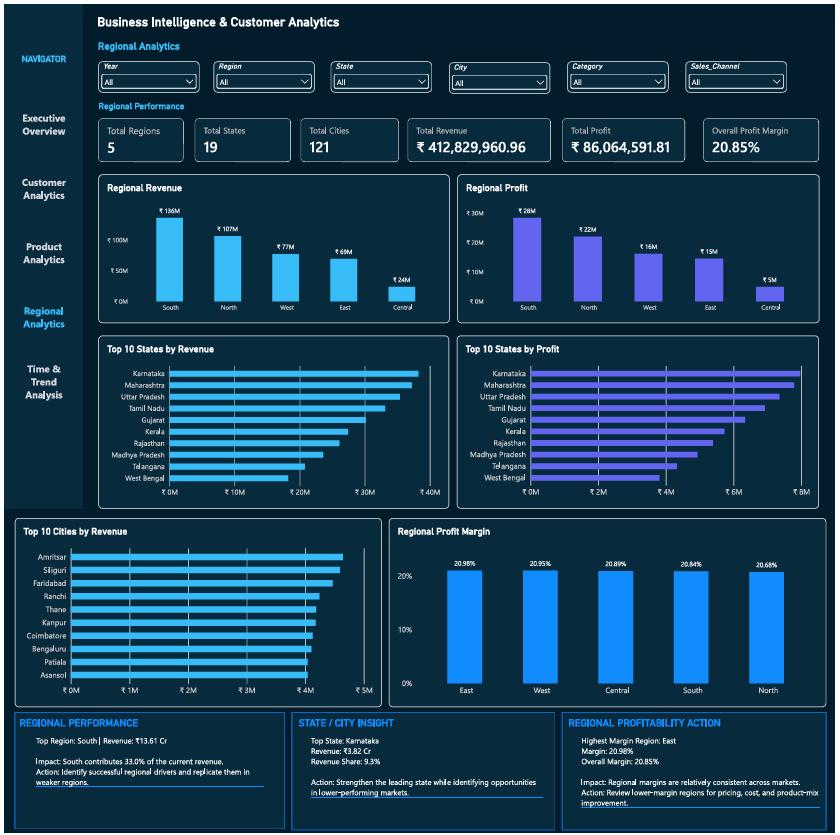

This screenshot's page, from the dashboard's own definition file:
{"tool":"powerbi","page":{"name":"Regional Analytics","canvas":[1600,1600],"ordinal":3},"visuals":[{"type":"shape","box":[0,0,150,972.9],"z":0},{"type":"textbox","box":[178,20,608,34],"z":1000},{"type":"textbox","box":[178.6,68.6,302.9,27.1],"z":2000},{"type":"pageNavigator","box":[8,174,134,612],"z":4000},{"type":"textbox","box":[8,95.3,134,28.7],"z":5000},{"type":"slicer","fields":{"Values":["dim_date.Year"]},"box":[180,110,195,60],"z":6000},{"type":"slicer","fields":{"Values":["dim_geography.Region"]},"box":[402,110,195,60],"z":7000},{"type":"slicer","fields":{"Values":["dim_geography.State"]},"box":[628,110,195,60],"z":8000},{"type":"slicer","fields":{"Values":["dim_geography.City"]},"box":[856,112,195,60],"z":9000},{"type":"slicer","fields":{"Values":["dim_product.Category"]},"box":[1084,110,195,60],"z":10000},{"type":"slicer","fields":{"Values":["fact_transaction.Sales_Channel"]},"box":[1312,110,195,60],"z":11000},{"type":"textbox","box":[180,185.7,224.3,24.3],"z":12000},{"type":"cardVisual","fields":{"Data":["dim_geography.Total Regions"]},"box":[180,220,164.3,84.3],"z":13000},{"type":"cardVisual","fields":{"Data":["dim_product.Total States"]},"box":[365.7,220,185.7,84.3],"z":14000},{"type":"cardVisual","fields":{"Data":["dim_geography.Total Cities"]},"box":[570,220,188.6,84.3],"z":15000},{"type":"cardVisual","fields":{"Data":["fact_transaction.Total Revenue"]},"box":[776,220,276,84],"z":16000},{"type":"cardVisual","fields":{"Data":["fact_transaction.Total Profit"]},"box":[1074.3,220,237.1,84.3],"z":17000},{"type":"cardVisual","fields":{"Data":["fact_transaction.Overall Profit Margin"]},"box":[1346,220,222.9,84.3],"z":18000},{"type":"clusteredColumnChart","title":"Regional Revenue","fields":{"Category":["dim_geography.Region"],"Y":["fact_transaction.Total Revenue"]},"box":[180,328.3,676.7,286.7],"z":19000},{"type":"clusteredColumnChart","title":"Regional Profit","fields":{"Category":["dim_geography.Region"],"Y":["fact_transaction.Total Profit"]},"box":[871.7,328.3,698.3,286.7],"z":20000},{"type":"clusteredBarChart","title":"Top 10 States by Revenue","fields":{"Category":["dim_geography.State"],"Y":["fact_transaction.Total Revenue"]},"box":[180,638.6,675.7,334.3],"z":21000},{"type":"clusteredBarChart","title":"Top 10 States by Profit","fields":{"Category":["dim_geography.State"],"Y":["fact_transaction.Total Profit"]},"box":[871.4,638.6,697.1,334.3],"z":22000},{"type":"clusteredBarChart","title":"Top 10 Cities by Revenue","fields":{"Category":["dim_geography.City"],"Y":["fact_transaction.Total Revenue"]},"box":[18.6,991.4,707.1,364.3],"z":23000},{"type":"clusteredColumnChart","title":"Regional Profit Margin","fields":{"Category":["dim_geography.Region"],"Y":["fact_transaction.Overall Profit Margin"]},"box":[740,991.4,842.9,364.3],"z":24000},{"type":"shape","box":[18.8,1366.2,520,225],"z":25000},{"type":"shape","box":[552.5,1366.2,507.5,226.2],"z":26000},{"type":"shape","box":[1073.8,1366.2,508.8,226.2],"z":27000},{"type":"textbox","box":[27.5,1375,385,35],"z":28000},{"type":"textbox","box":[566.2,1375,385,35],"z":29000},{"type":"textbox","box":[1086.2,1375,385,35],"z":30000},{"type":"textbox","box":[60,1410,438.8,167.5],"z":31000},{"type":"textbox","box":[590,1410,446.2,167.5],"z":32000},{"type":"textbox","box":[1111.2,1410,441.2,167.5],"z":33000},{"type":"textbox","box":[1111.2,1410,458.8,167.5],"z":34000}]}

Visuals, with their boxes in screenshot pixels (x1, y1, x2, y2), scaled from the page's 1600x1600 canvas onto the 840x835 screenshot:
shape: (left=0, top=0, right=79, bottom=508)
textbox: (left=93, top=10, right=413, bottom=28)
textbox: (left=94, top=36, right=253, bottom=50)
pageNavigator: (left=4, top=91, right=75, bottom=410)
textbox: (left=4, top=50, right=75, bottom=65)
slicer - dim_date.Year: (left=94, top=57, right=197, bottom=89)
slicer - dim_geography.Region: (left=211, top=57, right=313, bottom=89)
slicer - dim_geography.State: (left=330, top=57, right=432, bottom=89)
slicer - dim_geography.City: (left=449, top=58, right=552, bottom=90)
slicer - dim_product.Category: (left=569, top=57, right=671, bottom=89)
slicer - fact_transaction.Sales_Channel: (left=689, top=57, right=791, bottom=89)
textbox: (left=94, top=97, right=212, bottom=110)
cardVisual - dim_geography.Total Regions: (left=94, top=115, right=181, bottom=159)
cardVisual - dim_product.Total States: (left=192, top=115, right=289, bottom=159)
cardVisual - dim_geography.Total Cities: (left=299, top=115, right=398, bottom=159)
cardVisual - fact_transaction.Total Revenue: (left=407, top=115, right=552, bottom=159)
cardVisual - fact_transaction.Total Profit: (left=564, top=115, right=688, bottom=159)
cardVisual - fact_transaction.Overall Profit Margin: (left=707, top=115, right=824, bottom=159)
"Regional Revenue" clusteredColumnChart: (left=94, top=171, right=450, bottom=321)
"Regional Profit" clusteredColumnChart: (left=458, top=171, right=824, bottom=321)
"Top 10 States by Revenue" clusteredBarChart: (left=94, top=333, right=449, bottom=508)
"Top 10 States by Profit" clusteredBarChart: (left=457, top=333, right=823, bottom=508)
"Top 10 Cities by Revenue" clusteredBarChart: (left=10, top=517, right=381, bottom=708)
"Regional Profit Margin" clusteredColumnChart: (left=388, top=517, right=831, bottom=708)
shape: (left=10, top=713, right=283, bottom=830)
shape: (left=290, top=713, right=556, bottom=831)
shape: (left=564, top=713, right=831, bottom=831)
textbox: (left=14, top=718, right=217, bottom=736)
textbox: (left=297, top=718, right=499, bottom=736)
textbox: (left=570, top=718, right=772, bottom=736)
textbox: (left=32, top=736, right=262, bottom=823)
textbox: (left=310, top=736, right=544, bottom=823)
textbox: (left=583, top=736, right=815, bottom=823)
textbox: (left=583, top=736, right=824, bottom=823)
